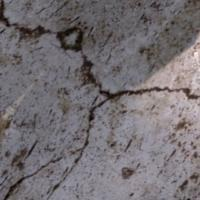crack: (0, 0, 187, 195)
